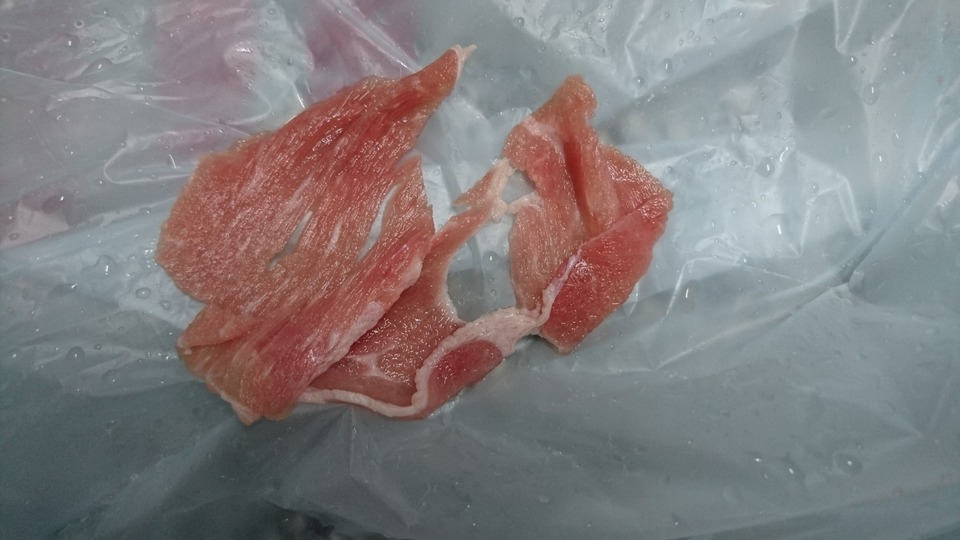restructured meat: (147, 69, 717, 437)
